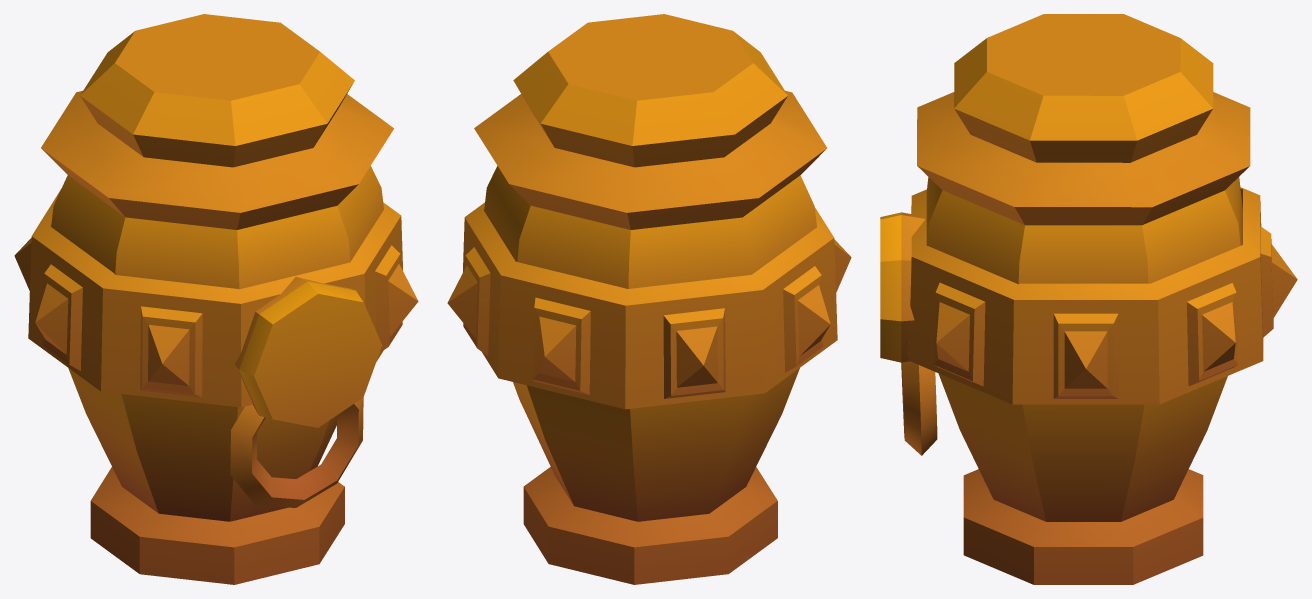
File: urn_2.glb
The picture shows the model from 3 angles, left to right: view 1: azimuth 30°, elevation 25°; view 2: azimuth 150°, elevation 25°; view 3: azimuth 270°, elevation 25°; orthographic projection.
Visible parts, largest first — view 1: urn_2; view 2: urn_2; view 3: urn_2.
Boxes of the visible parts, bbox=[...] form: urn_2: bbox=[14, 14, 418, 584]; urn_2: bbox=[447, 14, 851, 584]; urn_2: bbox=[880, 14, 1297, 584].
Bounding box in the file's own units: 0.7702 × 0.9622 × 0.7595.
1 material, 1 textured.
